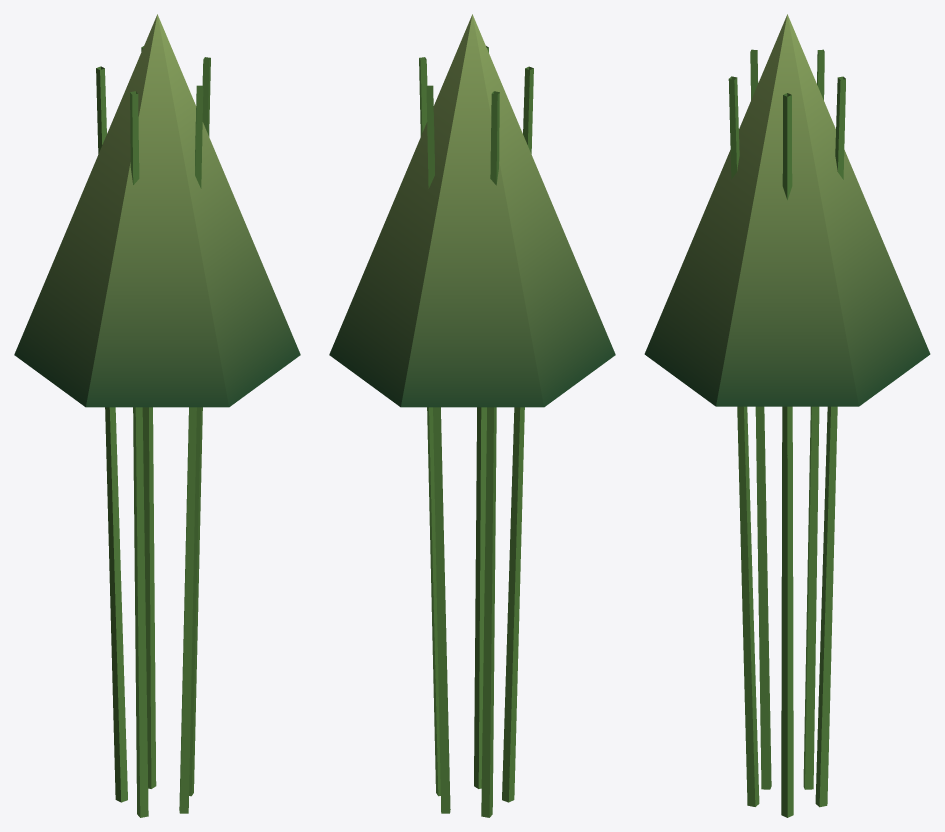
The model's file is bamboo_far.glb.
3 renders of one model, left to right at view 1: azimuth 30°, elevation 25°; view 2: azimuth 150°, elevation 25°; view 3: azimuth 270°, elevation 25°, orthographic.
Visible parts, largest first — view 1: BambooFar; view 2: BambooFar; view 3: BambooFar.
Part boxes in pixels (x1,y1,x2,y2): BambooFar: (14, 14, 300, 817); BambooFar: (329, 14, 615, 817); BambooFar: (644, 14, 930, 817).
Size of the model in its own units: 2.77 by 9.7 by 3.2.
